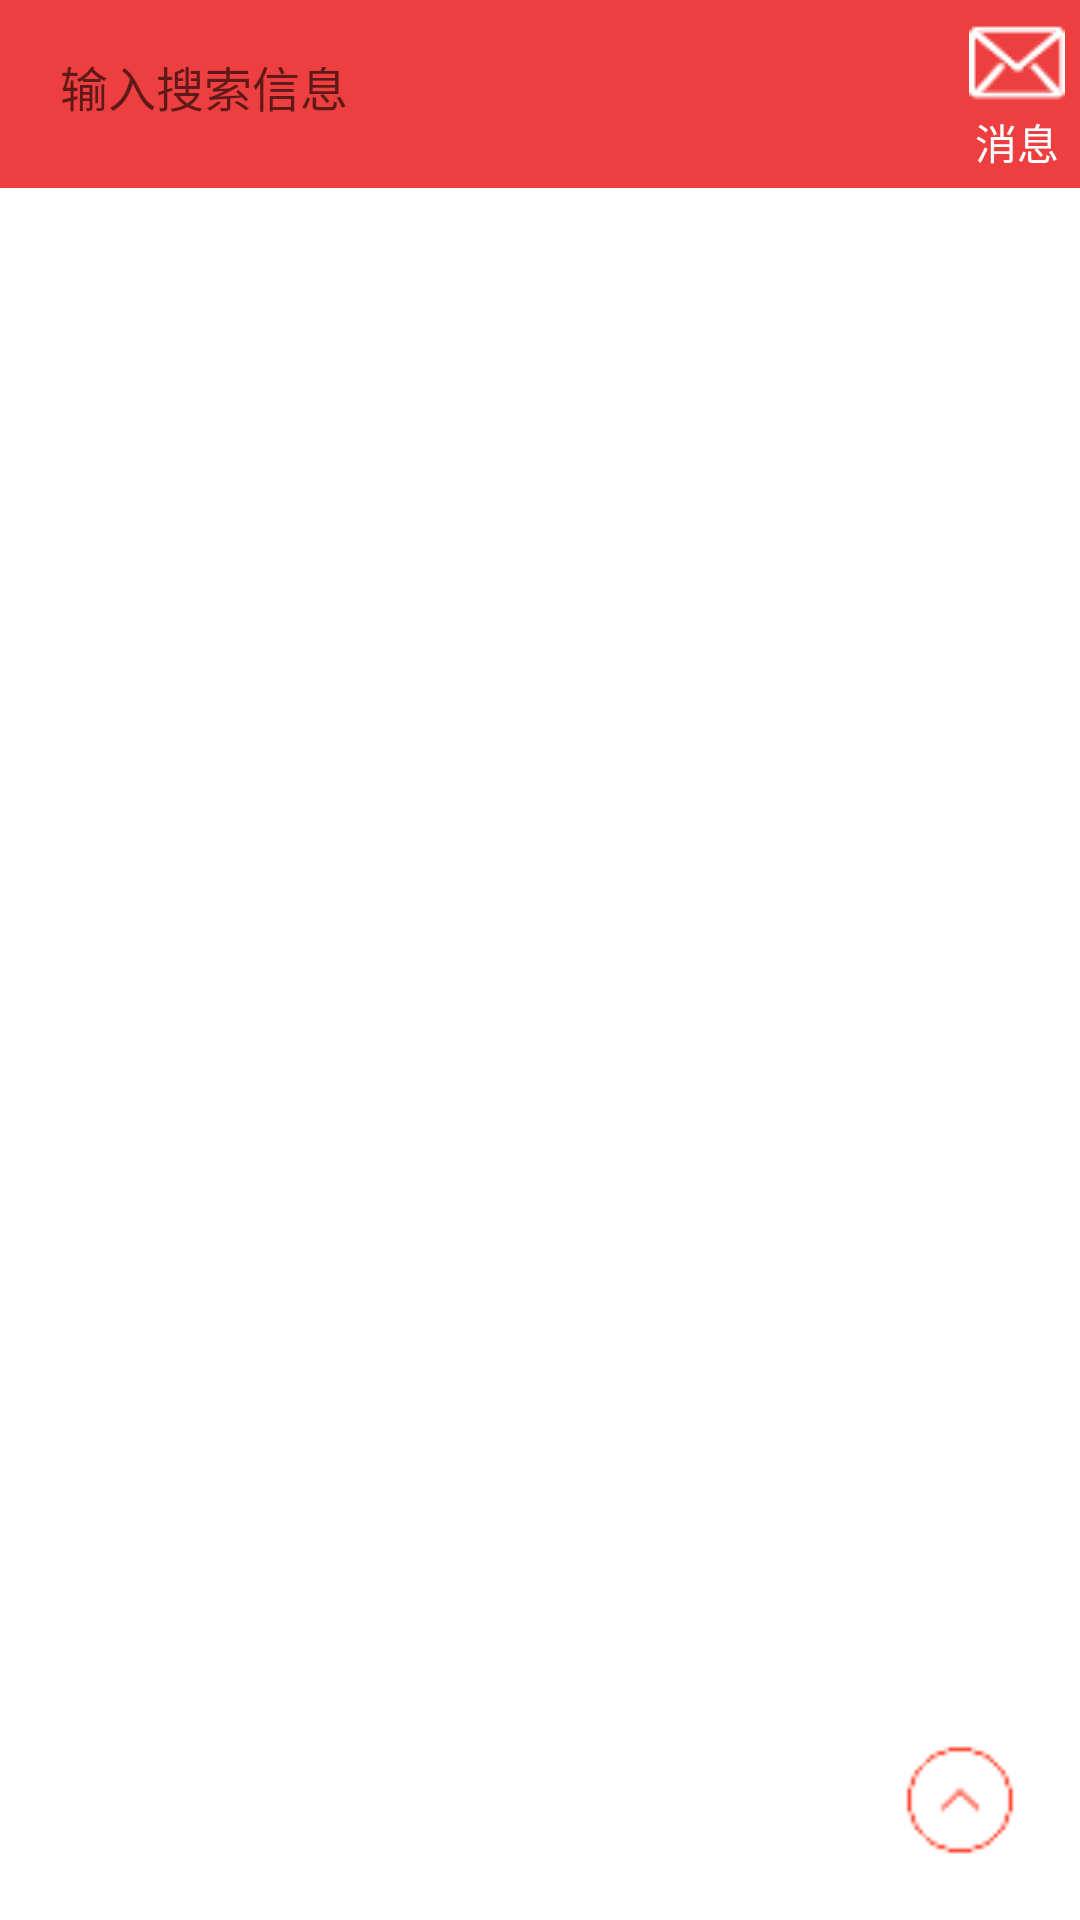

Where icons sit on this 1080x1920 app screen, as (x1, y1, x2, y2):
home 2top: (906, 1746, 1014, 1854)
